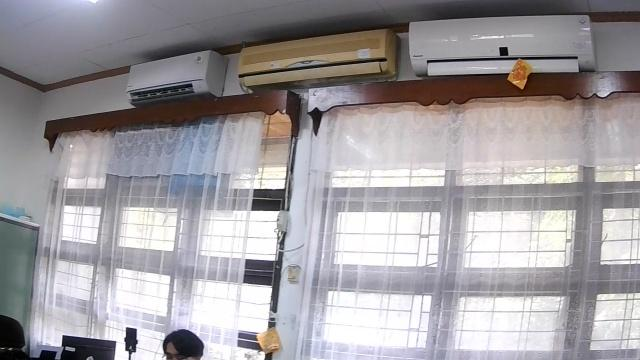AC: (405, 12, 597, 77), (236, 26, 400, 92), (126, 49, 228, 107)
